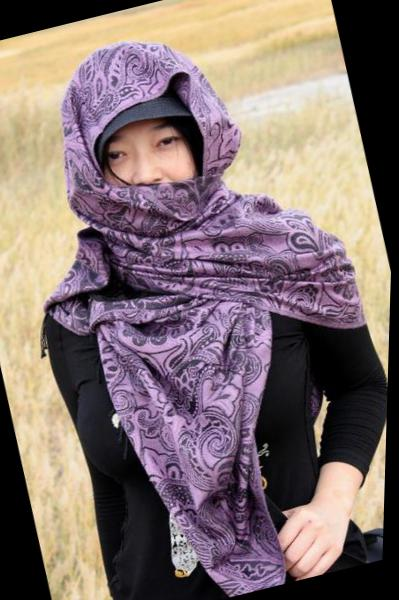WRONG: (75, 104, 229, 252)
